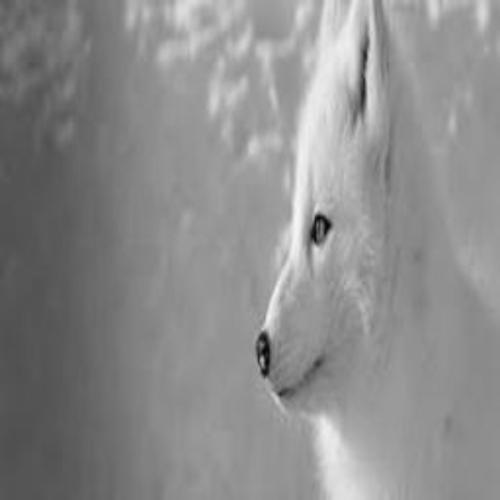arctic_fox-endangered: (254, 18, 500, 499)
